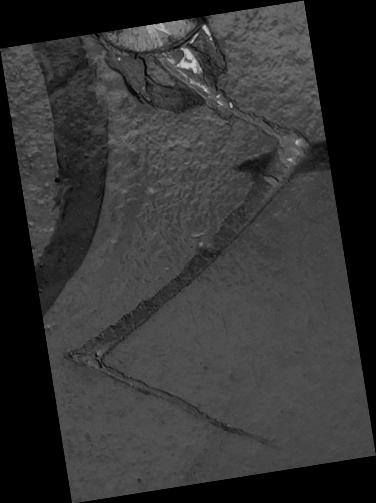scratch: (0, 1, 376, 503)
